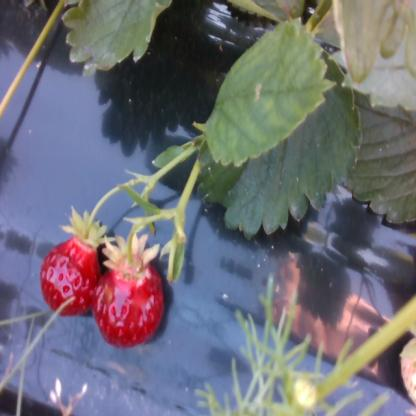ripe: (102, 262, 167, 342), (39, 240, 96, 318)
